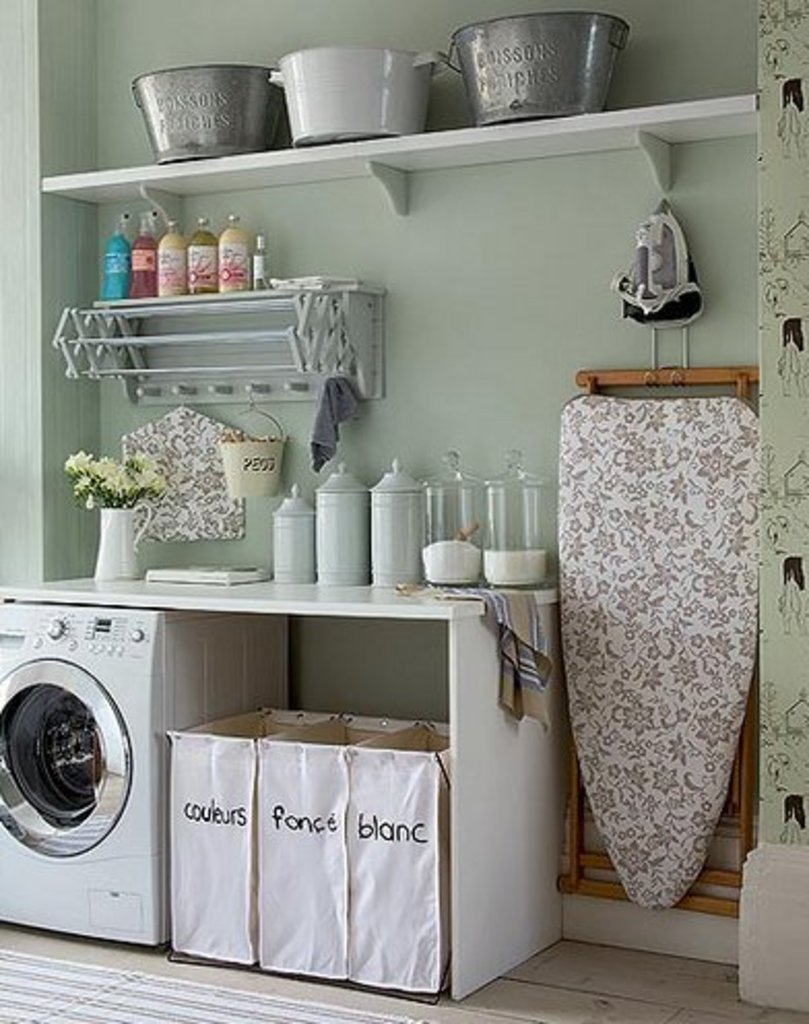Cabinetry: (0, 535, 532, 1020), (47, 0, 759, 217)
